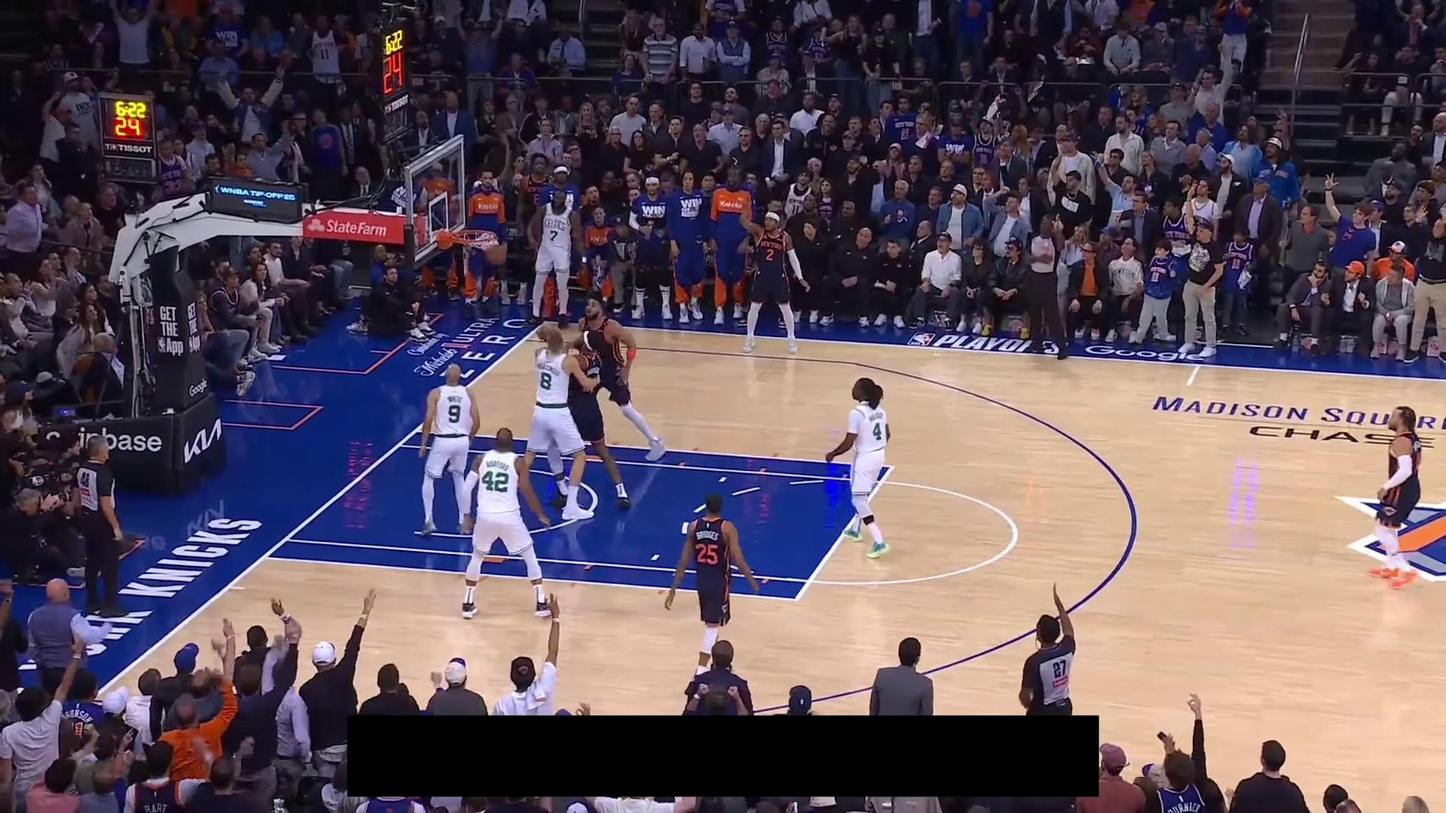ball: (485, 244, 507, 265)
ball-in-basket: (452, 227, 507, 265)
number: (481, 470, 510, 493), (694, 543, 719, 565), (447, 404, 462, 425), (540, 371, 553, 391), (871, 421, 884, 441), (548, 228, 559, 242), (319, 47, 330, 60), (765, 248, 774, 261)
player: (455, 426, 560, 621), (664, 492, 761, 672), (577, 293, 667, 464), (520, 328, 599, 520), (550, 331, 632, 513), (824, 377, 893, 559), (416, 360, 483, 537), (734, 204, 810, 355), (1366, 404, 1426, 590), (523, 184, 584, 329)
referee: (69, 435, 130, 617), (1017, 579, 1077, 715), (1023, 212, 1069, 361)
rim: (452, 227, 497, 245)
